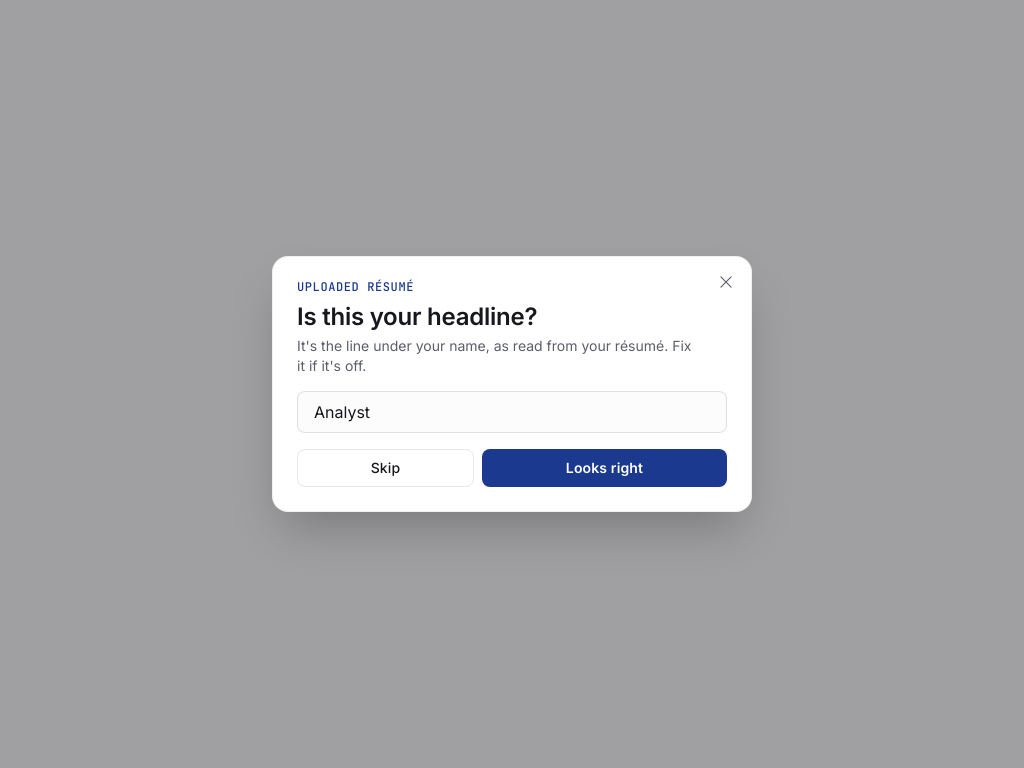
Test case: HeadlineConfirmModal › keeps the popup open with the reason when the save fails
Type " II" into the field named "Headline". click: (512, 412)
box: [297,391,727,433]
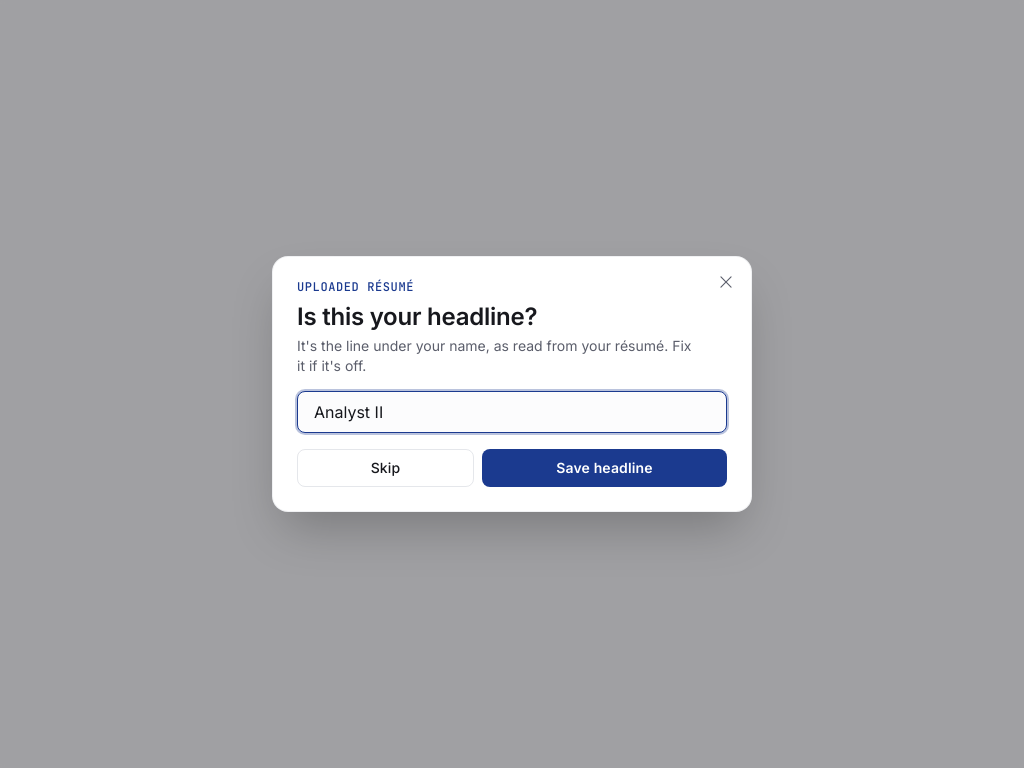
Click the button "Save headline". click: (604, 468)
box: [482,449,727,487]
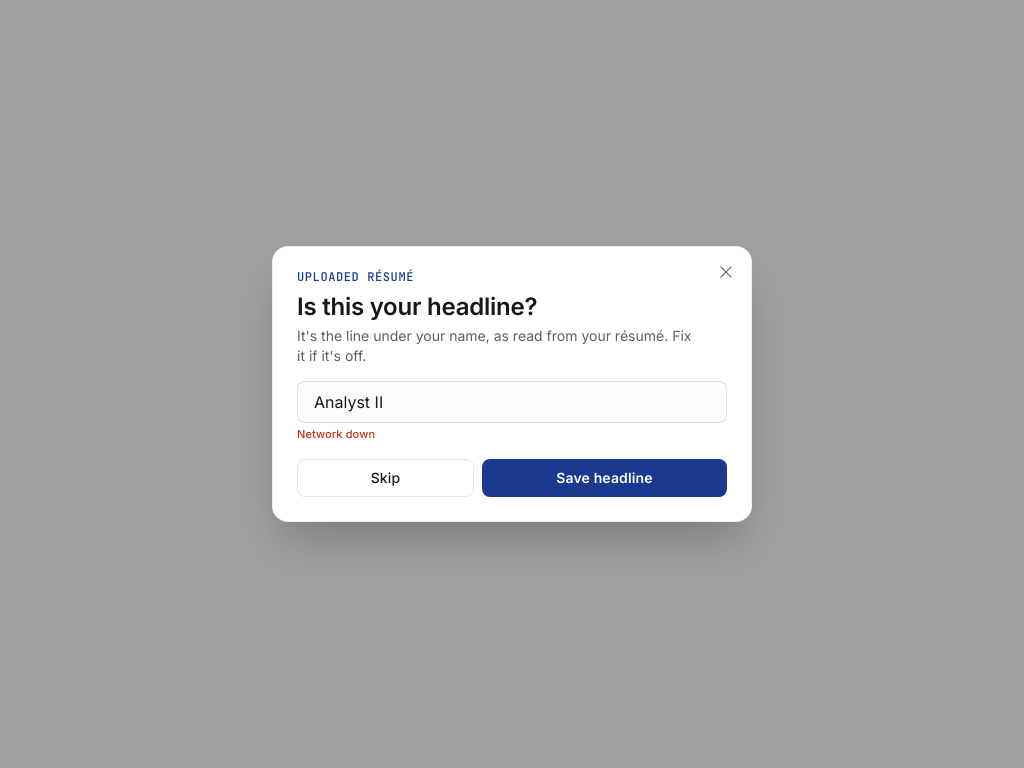
Expected: the dialog is shown, [272,246,752,522]
Now the message reads "Network down", box [297,427,375,441]
